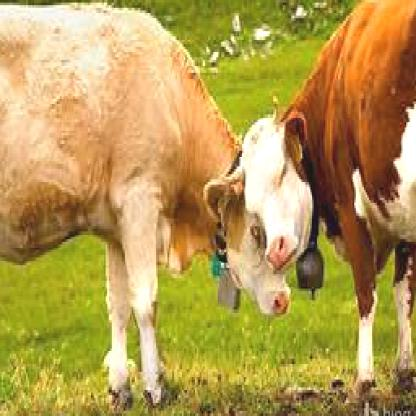cow: (0, 5, 294, 408), (217, 0, 415, 401)
